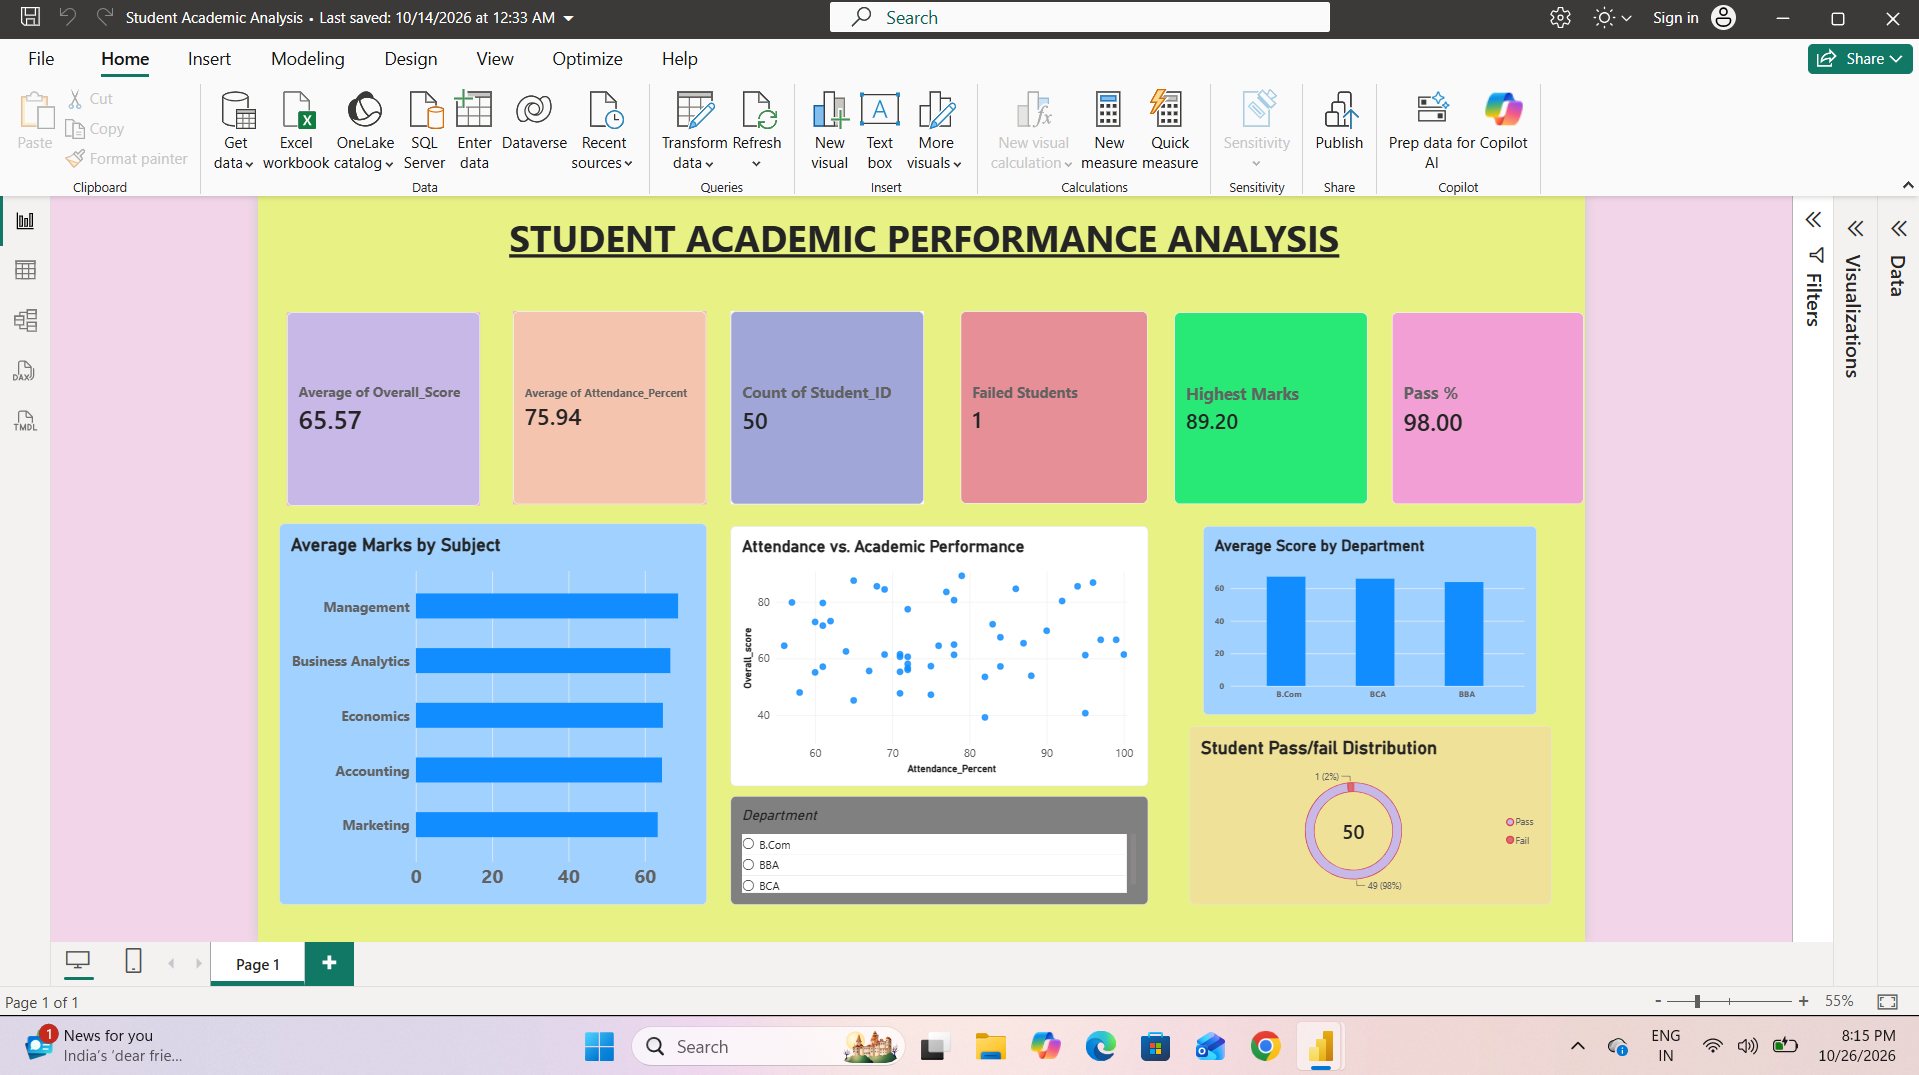

The dashboard page shown, as its layout file describes it:
{"tool":"powerbi","page":{"name":"Page 1","canvas":[1920,1080],"ordinal":0},"visuals":[{"type":"cardVisual","fields":{"Data":["CountNonNull(Student_Academic_Performance.Student_ID)"]},"box":[684.1,166.5,280,280],"z":0},{"type":"cardVisual","fields":{"Data":["Avg(Student_Academic_Performance.Overall_Score)"]},"box":[41.6,168.3,280,280],"z":1},{"type":"clusteredBarChart","title":"Average Marks by Subject","fields":{"Category":["Student_Academic_Performance.Subject"],"Y":["Avg(Student_Academic_Performance.Overall_Score)"]},"box":[30.8,474.1,618.9,551.9],"z":2},{"type":"cardVisual","fields":{"Data":["Avg(Student_Academic_Performance.Attendance_Percent)"]},"box":[369.2,166.5,280,280],"z":3},{"type":"donutChart","title":"Student Pass/fail Distribution","fields":{"Category":["Student_Academic_Performance.Result"],"Y":["CountNonNull(Student_Academic_Performance.Student_ID)"]},"box":[1348.2,767.3,524.8,258.8],"z":4},{"type":"listSlicer","fields":{"Values":["Student_Academic_Performance.Department"]},"box":[684.1,868.6,604.4,157.4],"z":5},{"type":"cardVisual","fields":{"Data":["Student_Academic_Performance.Pass %"]},"box":[1641.4,168.3,278.7,278.7],"z":6},{"type":"cardVisual","fields":{"Data":["Student_Academic_Performance.Highest Marks"]},"box":[1326.5,168.3,280.5,278.7],"z":7},{"type":"clusteredColumnChart","title":"Average Score by Department","fields":{"Category":["Student_Academic_Performance.Department"],"Y":["Avg(Student_Academic_Performance.Overall_Score)"]},"box":[1368.1,477.8,483.2,273.3],"z":8},{"type":"cardVisual","fields":{"Data":["Student_Academic_Performance.Failed Students"]},"box":[1017,166.5,271.7,279.9],"z":9},{"type":"textbox","box":[10.9,23.5,1907.4,266],"z":10},{"type":"scatterChart","title":"Attendance vs. Academic Performance","fields":{"X":["Avg(Student_Academic_Performance.Attendance_Percent)"],"Y":["Avg(Student_Academic_Performance.Overall_Score)"],"Category":["Student_Academic_Performance.Student_ID"]},"box":[684.1,477.8,604.4,376.4],"z":11}]}

Visuals, with their boxes on the page's 1920x1080 design canvas (x1, y1, x2, y2). These are canvas units, not pixel positions in the 1919x1075 screenshot, which may show the page scaled, cropped or inside an application window:
cardVisual - CountNonNull(Student_Academic_Performance.Student_ID): rect(684, 166, 964, 446)
cardVisual - Avg(Student_Academic_Performance.Overall_Score): rect(42, 168, 322, 448)
"Average Marks by Subject" clusteredBarChart: rect(31, 474, 650, 1026)
cardVisual - Avg(Student_Academic_Performance.Attendance_Percent): rect(369, 166, 649, 446)
"Student Pass/fail Distribution" donutChart: rect(1348, 767, 1873, 1026)
listSlicer - Student_Academic_Performance.Department: rect(684, 869, 1288, 1026)
cardVisual - Student_Academic_Performance.Pass %: rect(1641, 168, 1920, 447)
cardVisual - Student_Academic_Performance.Highest Marks: rect(1326, 168, 1607, 447)
"Average Score by Department" clusteredColumnChart: rect(1368, 478, 1851, 751)
cardVisual - Student_Academic_Performance.Failed Students: rect(1017, 166, 1289, 446)
textbox: rect(11, 24, 1918, 290)
"Attendance vs. Academic Performance" scatterChart: rect(684, 478, 1288, 854)
